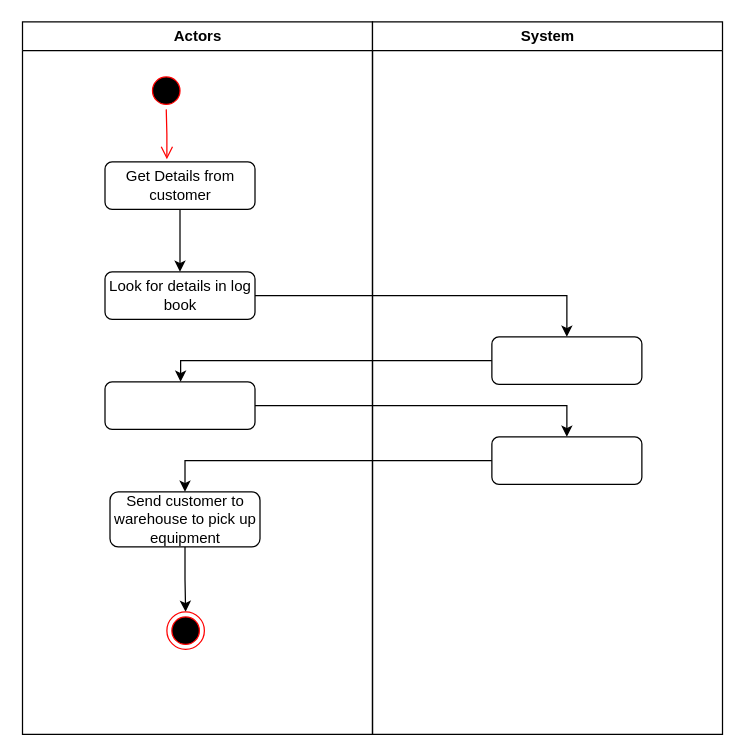
The diagram is 744 pixels wide and 756 high, and some of its shapes have lost their labels. The centre of each missing label's shape, as x and y in pixels:
Record equipment has been picked up: point 179,405
Show lease details: point 566,360
Stores a record of pickup: point 566,460
